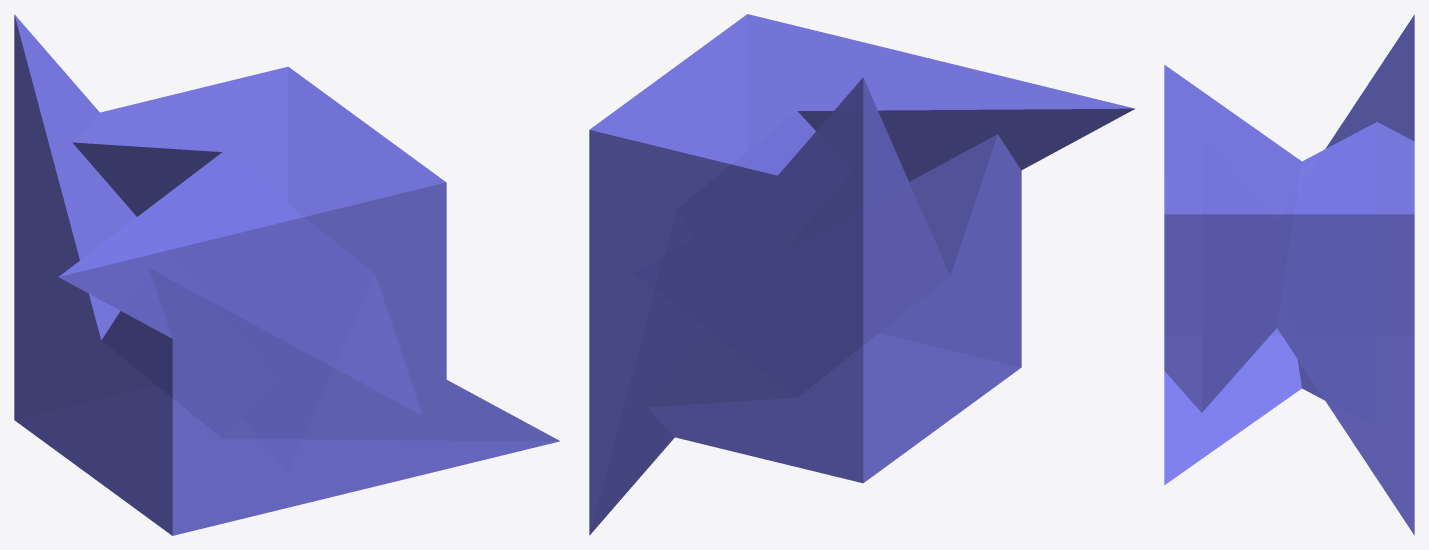
The model's file is HexagonalToroid_F.obj.
3 views of the same model, side by side, from view 1: azimuth 30°, elevation 25°; view 2: azimuth 150°, elevation 25°; view 3: azimuth 270°, elevation 25° (orthographic). The views are drawn at different scales.
Bounding box in the file's own units: 4.4 × 4.4 × 2.4.
